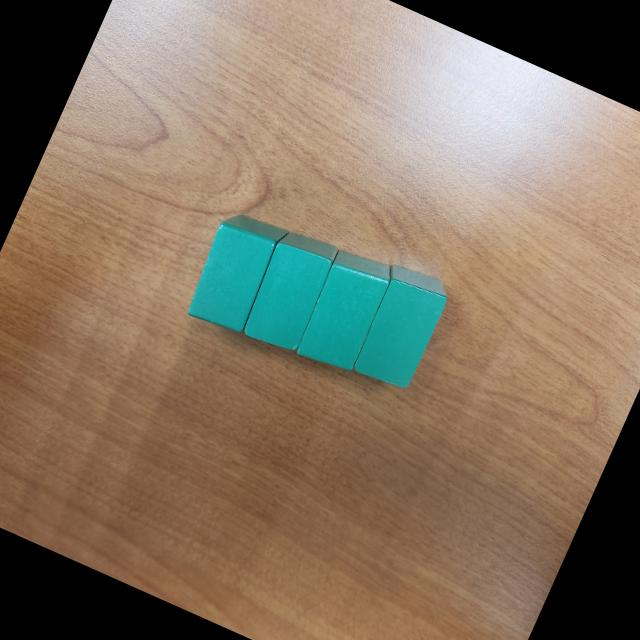green: (345, 258, 455, 395), (180, 203, 290, 339), (290, 243, 398, 379), (235, 222, 343, 358)
